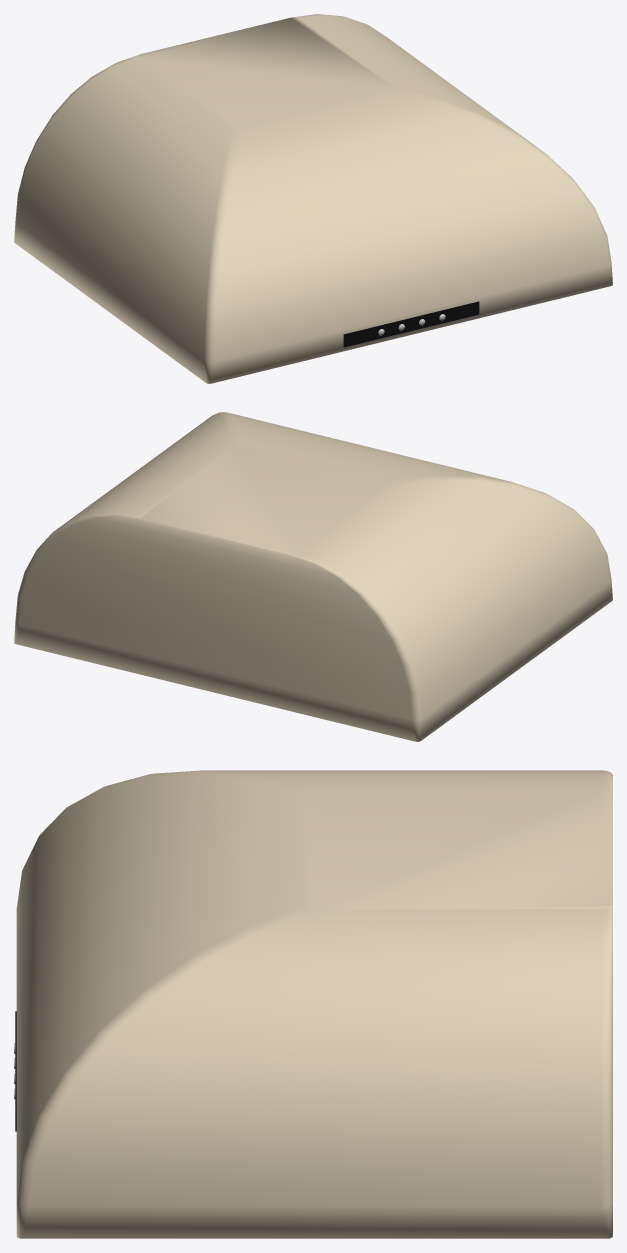
The model's file is a_hood_dome_3.glb.
The picture shows the model from 3 angles, top to bottom: view 1: azimuth 30°, elevation 25°; view 2: azimuth 150°, elevation 25°; view 3: azimuth 270°, elevation 25°; orthographic projection. The views are drawn at different scales.
Parts seen in each view (by area): view 1: o, o.027; view 2: o; view 3: o.
Part boxes in pixels (<box>): o: <box>14,14,612,383</box>; o.027: <box>343,301,479,347</box>; o: <box>14,412,612,741</box>; o: <box>16,770,612,1238</box>.
Bounding box in the file's own units: 0.6 × 0.2222 × 0.5022.
